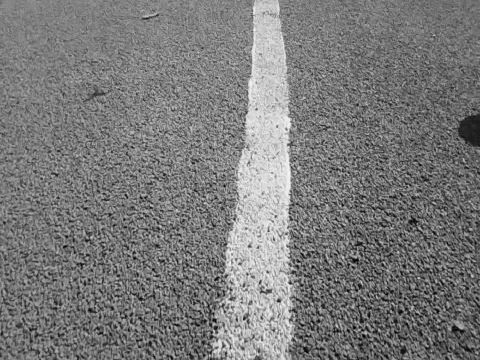Lines: (212, 0, 290, 360)
